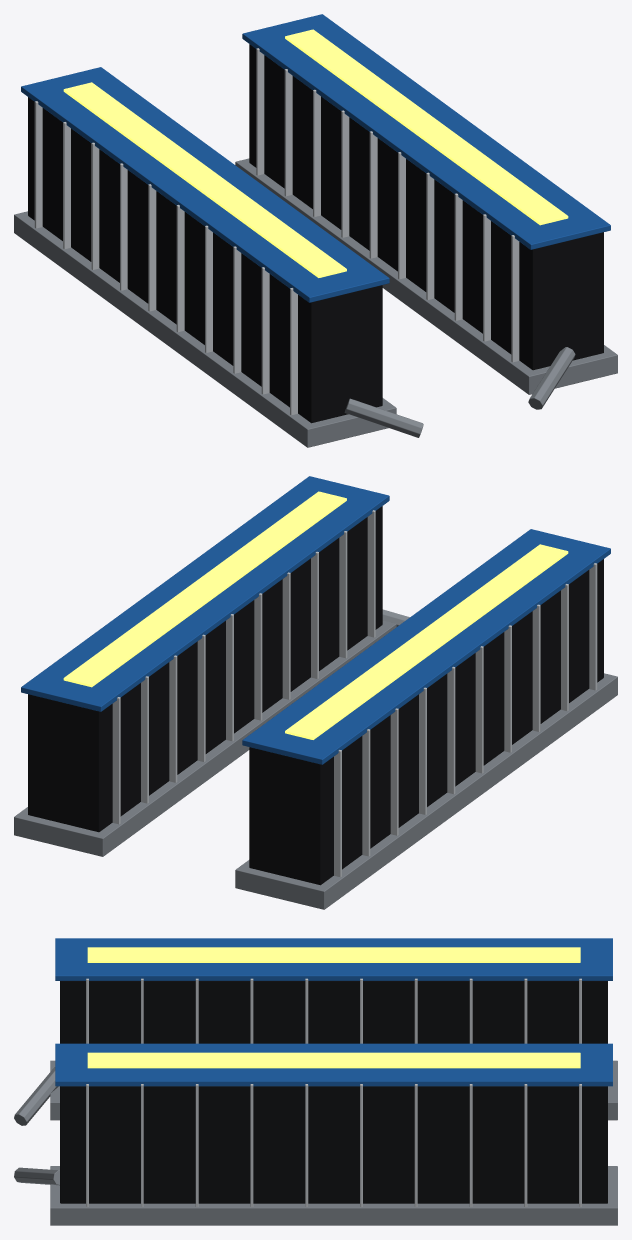
Rendered from strix_cooling_grid.fbx.
3 renders of one model, top to bottom at view 1: azimuth 30°, elevation 25°; view 2: azimuth 150°, elevation 25°; view 3: azimuth 270°, elevation 25°, orthographic. The views are drawn at different scales.
Visible parts, largest first — view 1: Cooling_Grid; view 2: Cooling_Grid; view 3: Cooling_Grid.
Part boxes in pixels (x1,y1,x2,y2): Cooling_Grid: [14, 14, 617, 447]; Cooling_Grid: [14, 476, 617, 909]; Cooling_Grid: [14, 938, 617, 1225].
Bounding box in the file's own units: 69.6 × 32.99 × 121.
